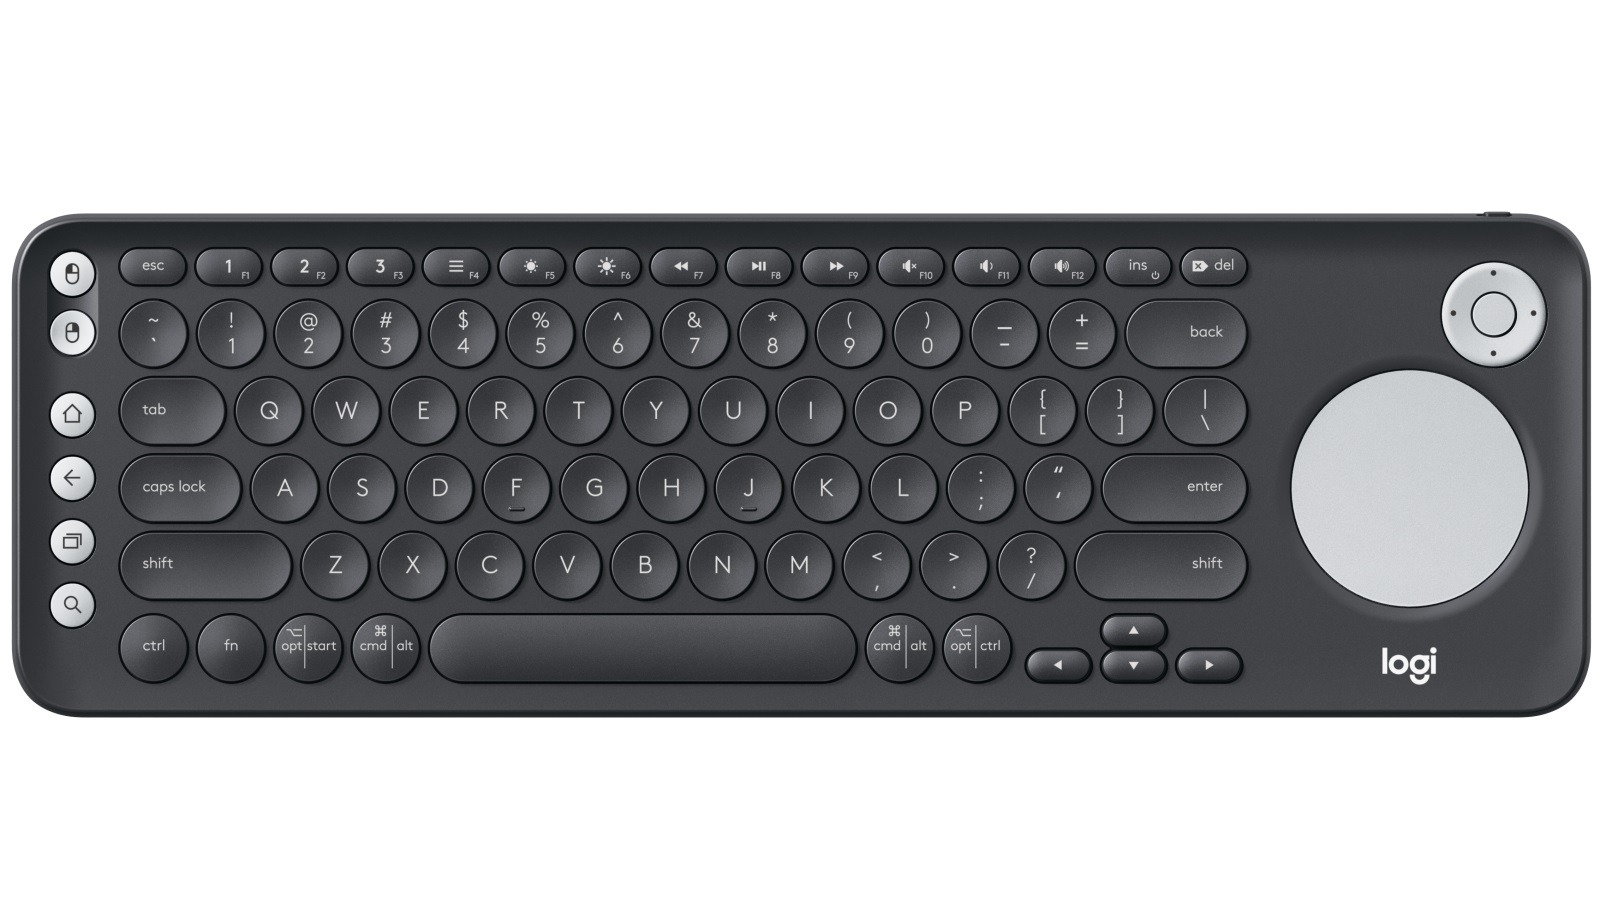keyboard: (0, 204, 1600, 713)
